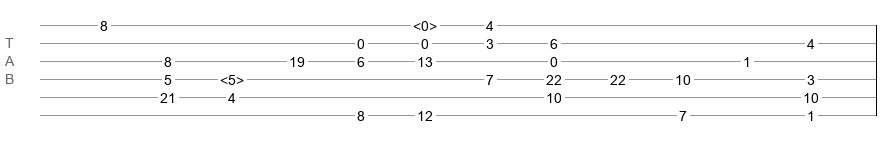0: (357, 36, 365, 46), (421, 36, 429, 46), (550, 54, 558, 64)
1: (743, 54, 751, 64), (807, 108, 815, 118)
10: (546, 90, 562, 100), (675, 72, 691, 82), (803, 90, 819, 100)
12: (417, 108, 433, 118)
13: (417, 54, 433, 64)
19: (289, 54, 305, 64)
21: (160, 90, 176, 100)
22: (546, 72, 562, 82), (610, 72, 626, 82)
3: (486, 36, 494, 46), (807, 72, 815, 82)
4: (228, 90, 236, 100), (486, 18, 494, 28), (807, 36, 815, 46)
5: (164, 72, 172, 82)
6: (357, 54, 365, 64), (550, 36, 558, 46)
7: (486, 72, 494, 82), (679, 108, 687, 118)
8: (100, 18, 108, 28), (164, 54, 172, 64), (357, 108, 365, 118)
harmonic: (220, 72, 244, 82), (413, 18, 437, 28)
